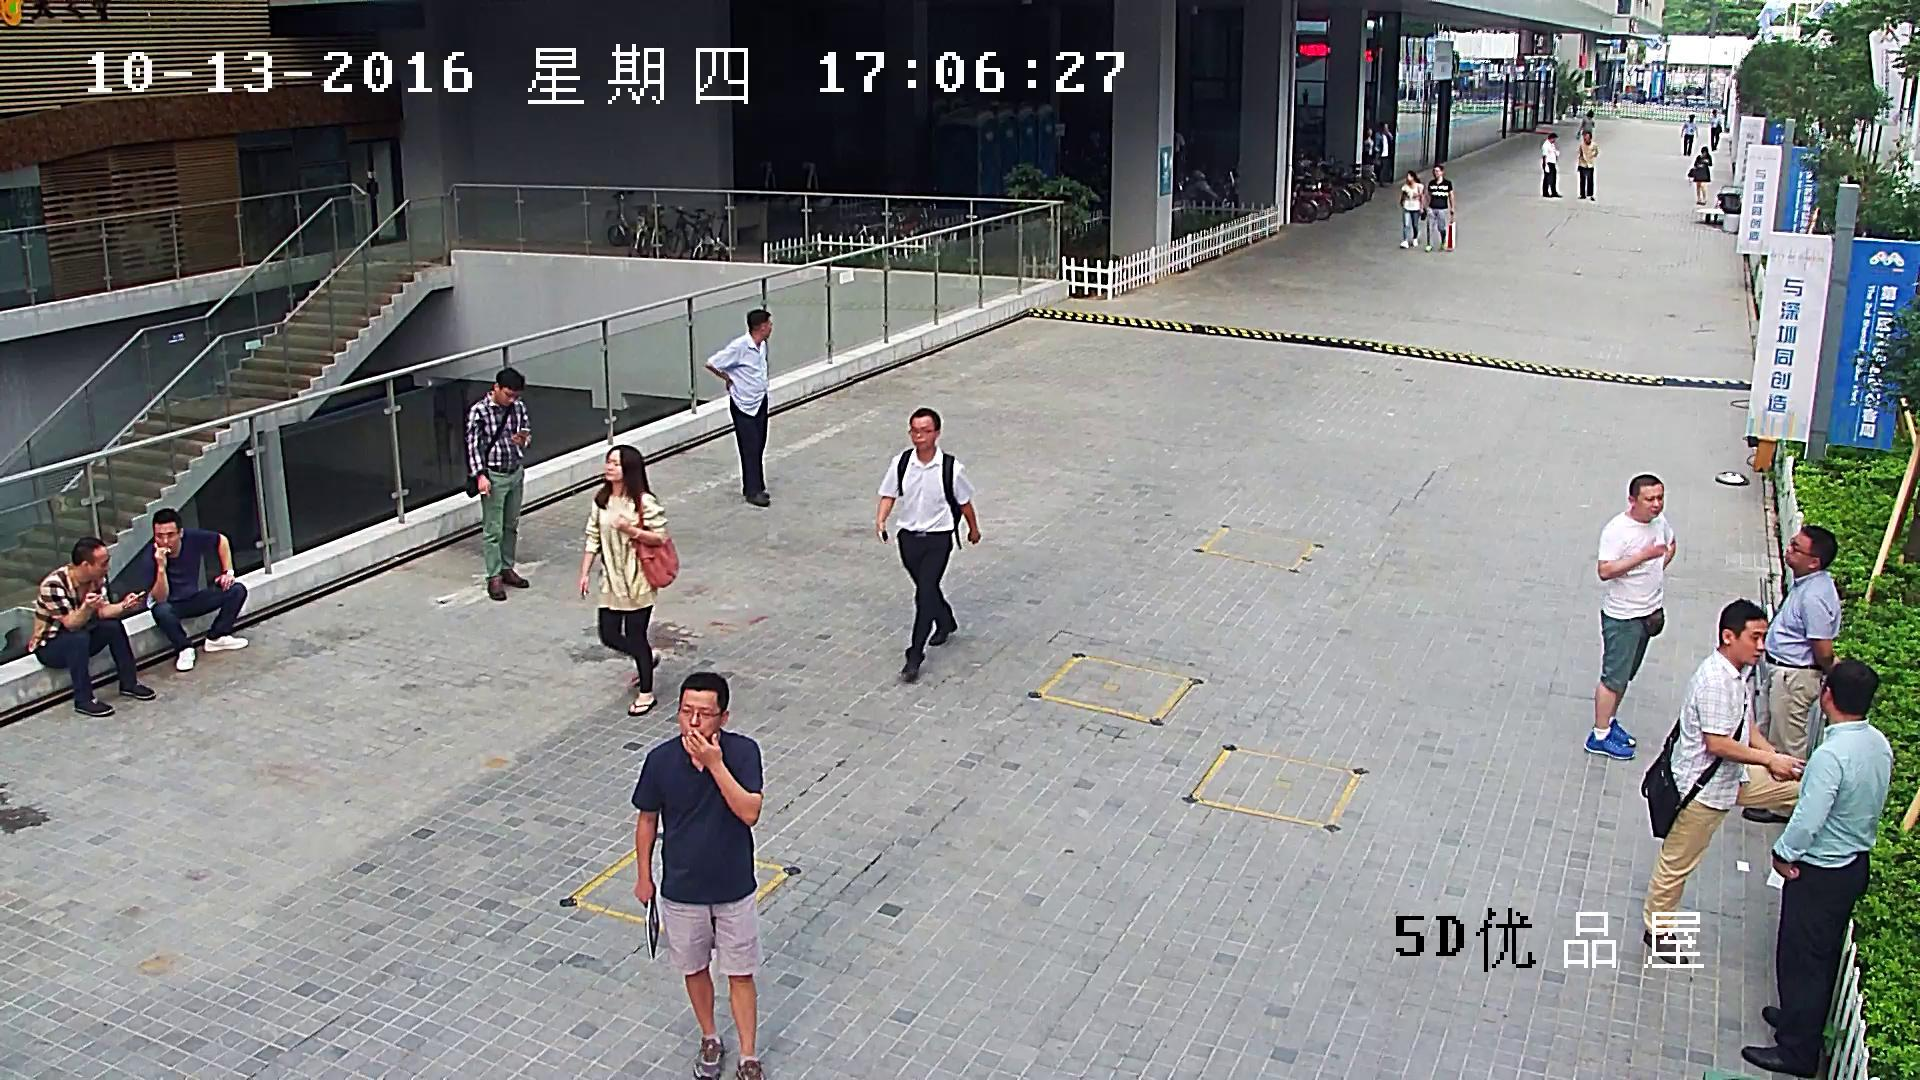person: (1646, 598, 1805, 983), (1746, 659, 1890, 1080), (633, 672, 762, 1080), (1740, 526, 1841, 826), (873, 407, 981, 684), (1583, 474, 1680, 762), (579, 446, 679, 717), (31, 534, 156, 718), (151, 510, 251, 673), (470, 365, 532, 601), (706, 312, 772, 513), (1422, 166, 1455, 253), (1399, 169, 1428, 248), (1575, 130, 1599, 201), (1687, 147, 1713, 205), (1540, 132, 1562, 197), (1376, 123, 1395, 188), (1680, 115, 1698, 155), (1707, 109, 1722, 151), (1364, 126, 1378, 169), (1575, 111, 1596, 139)
